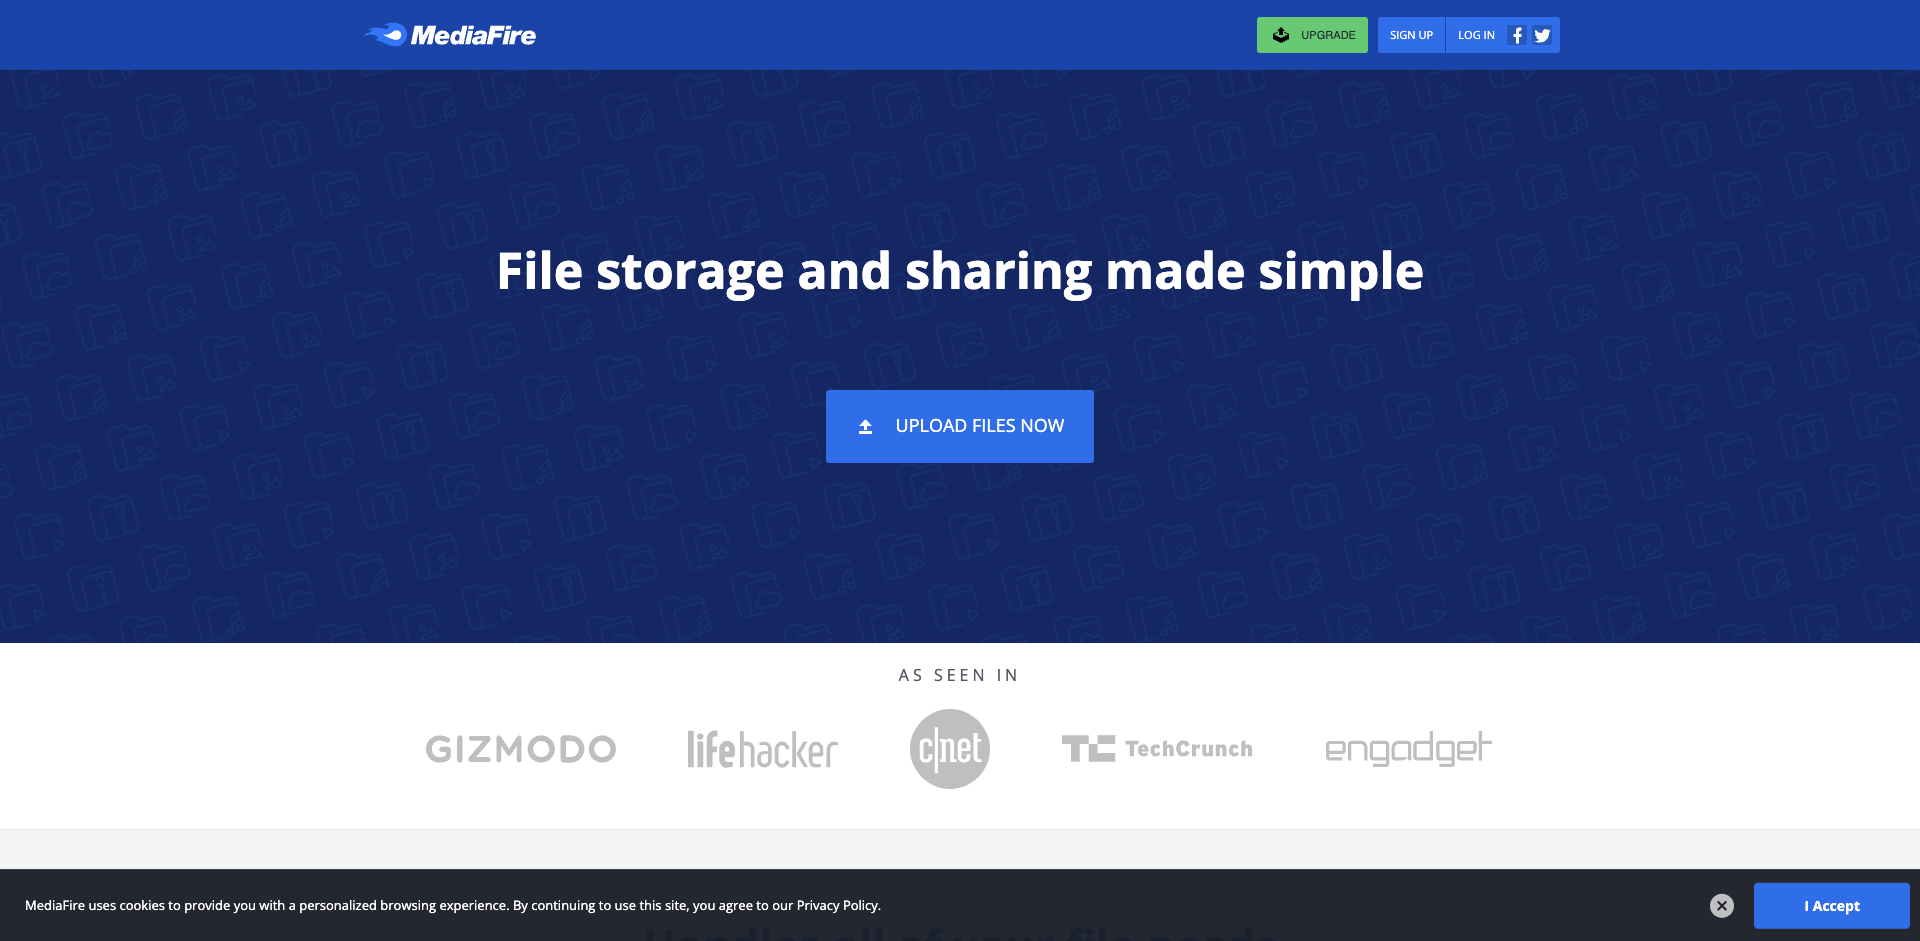button: (825, 390, 1095, 463), (1701, 882, 1910, 929), (1220, 15, 1370, 55), (1446, 17, 1560, 53), (1378, 17, 1446, 53)
link: (1755, 882, 1910, 929), (360, 22, 550, 48), (1701, 883, 1745, 928)
